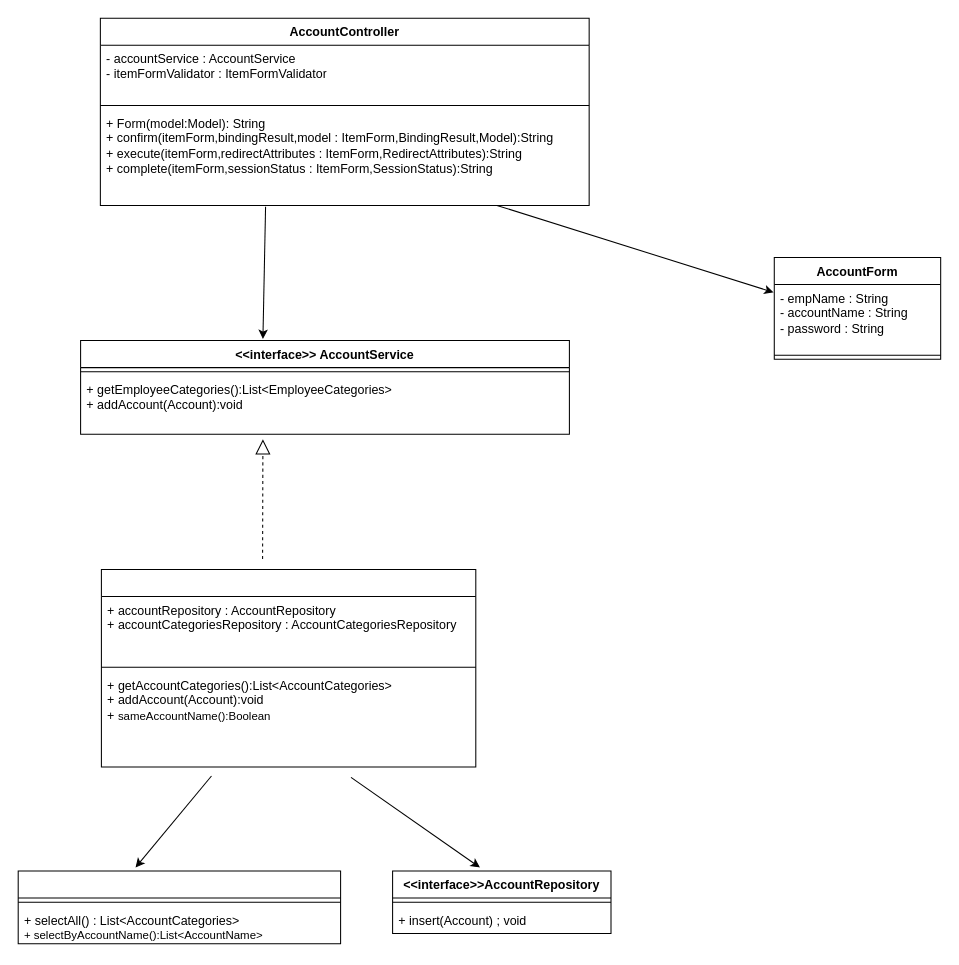
Image size: 959x965. Some labels were removed from this diagram. Here are the shapes that lost their labels. From the top down, the box of each, then its label:
(100, 568, 476, 767): AccountServiceImpl
(17, 870, 341, 944): <<interface>>AccountCategoriesRepository
